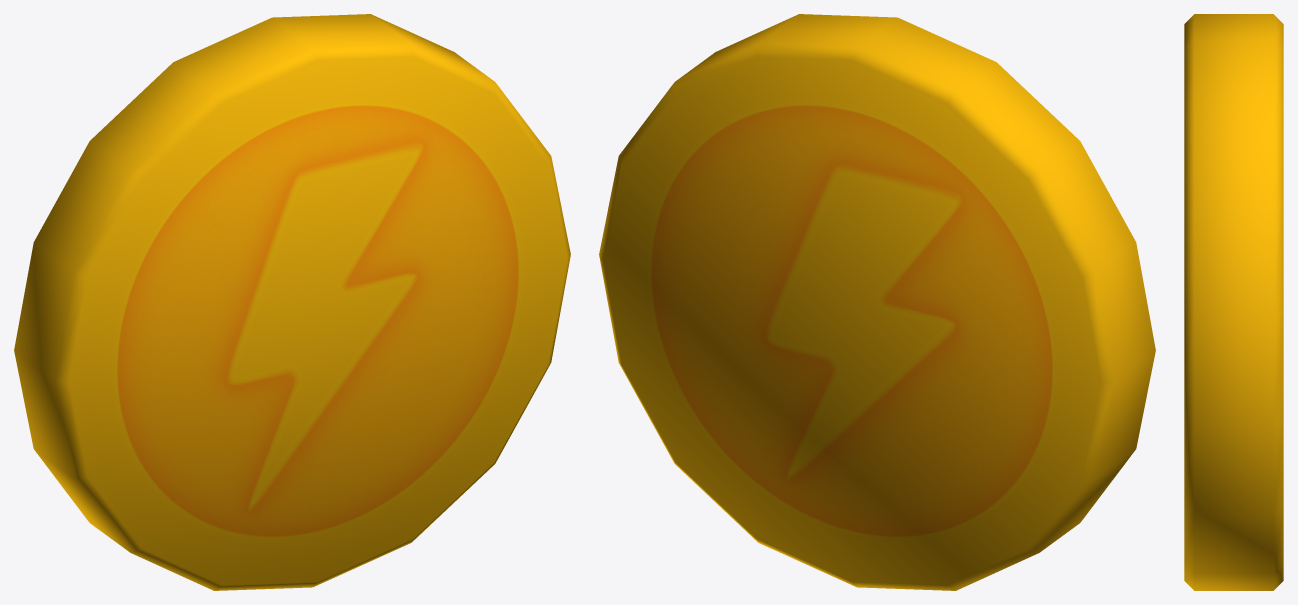
Rendered from Coin_Thunder_Gold.FBX.
3 views of the same model, side by side, from view 1: azimuth 30°, elevation 25°; view 2: azimuth 150°, elevation 25°; view 3: azimuth 270°, elevation 25° (orthographic). The views are drawn at different scales.
Parts seen in each view (by area): view 1: Coin_Thunder_Gold; view 2: Coin_Thunder_Gold; view 3: Coin_Thunder_Gold.
Part boxes in pixels (x1=…): Coin_Thunder_Gold: x1=14, y1=14, x2=570, y2=590; Coin_Thunder_Gold: x1=599, y1=14, x2=1155, y2=590; Coin_Thunder_Gold: x1=1184, y1=14, x2=1283, y2=590.
Bounding box in the file's own units: 70 × 70 × 12.
1 material, 1 textured.
